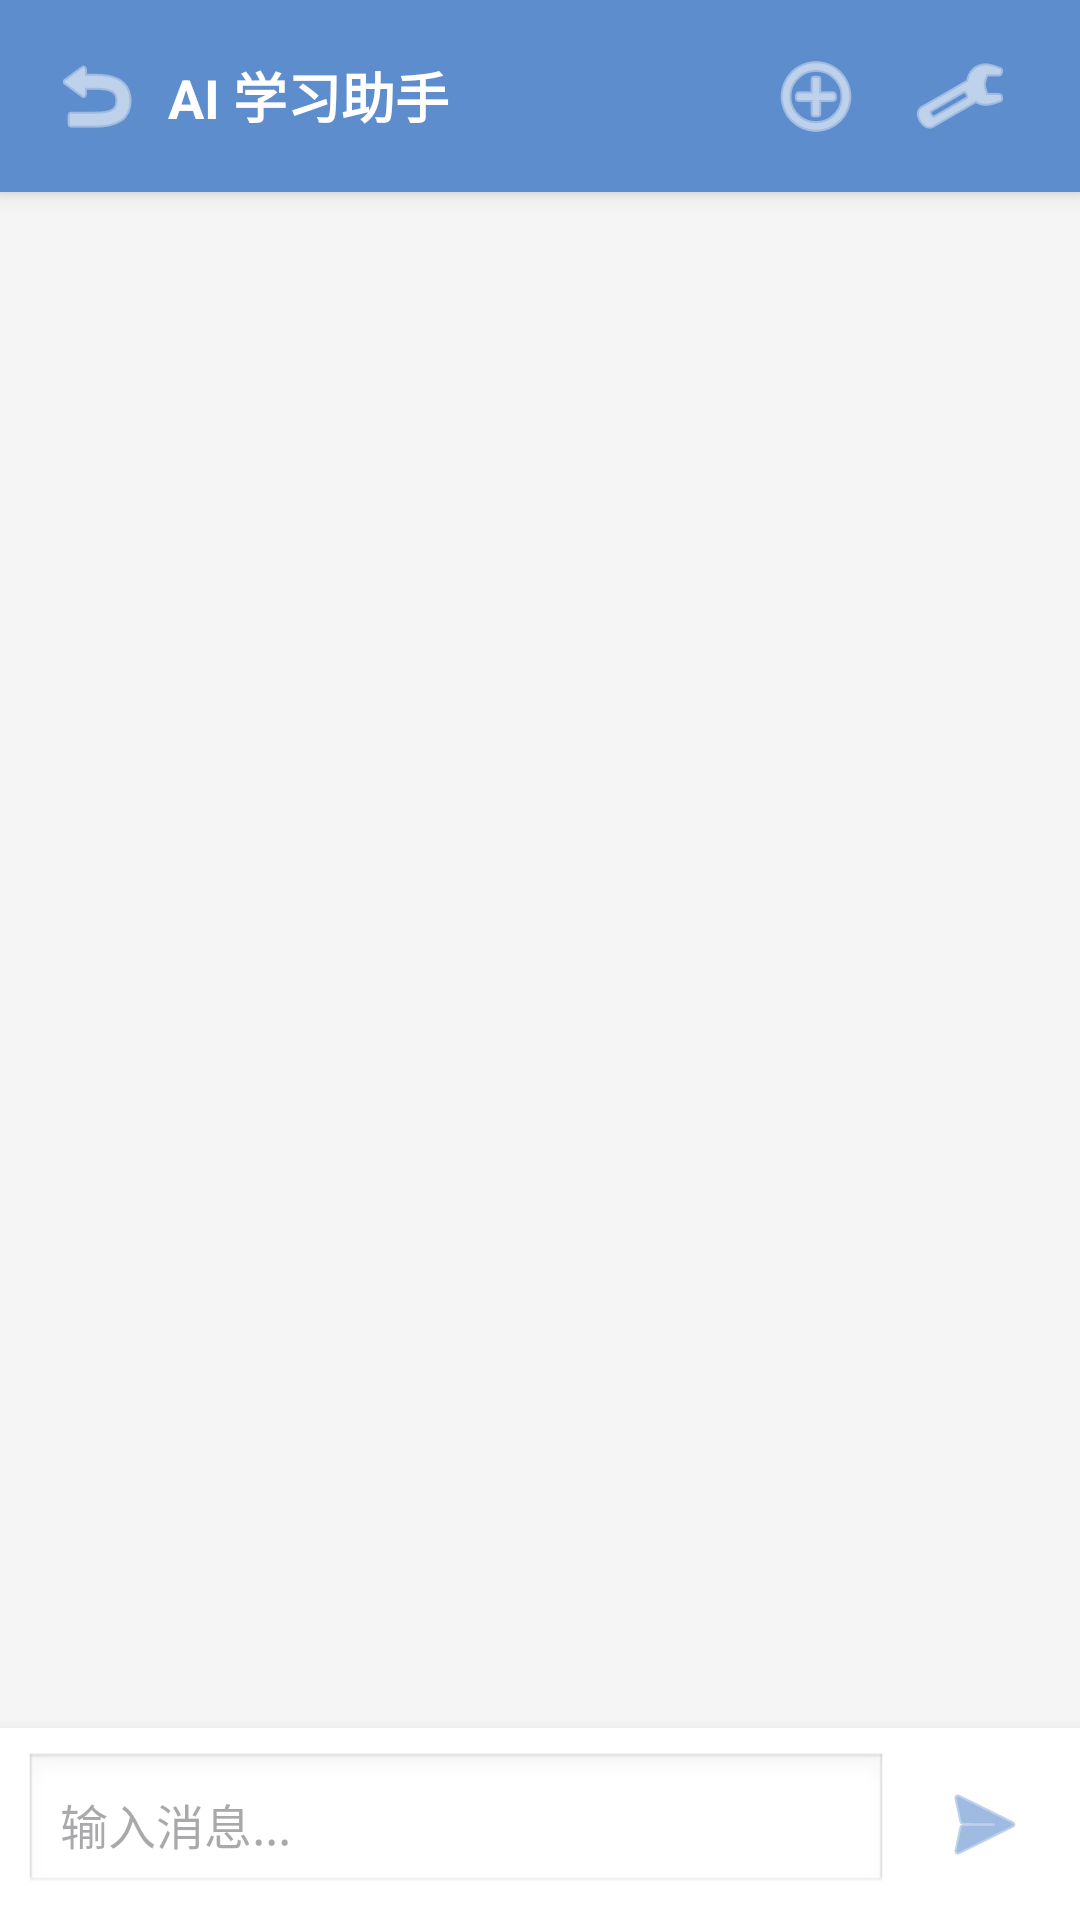

Point at icon controls on the screen. Image size 1080*1920, points as (x=x, y=y).
发送: (x=984, y=1824)
设置: (x=960, y=96)
返回: (x=97, y=97)
